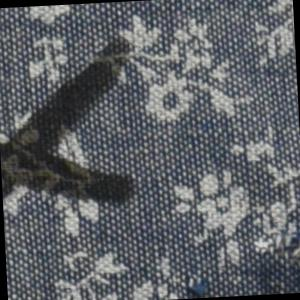Damage: (253, 217, 300, 289), (180, 273, 219, 299)
Stain: (1, 32, 144, 212)
